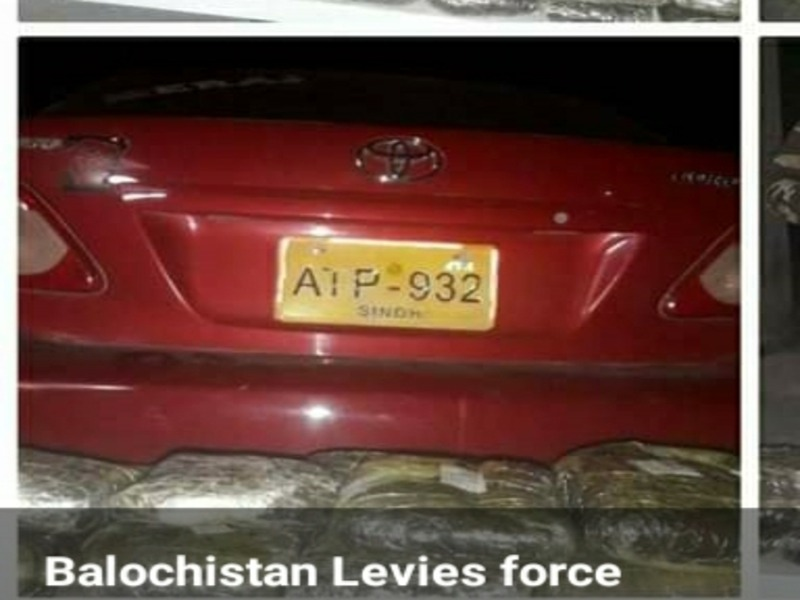License Plate: (271, 233, 502, 334)
